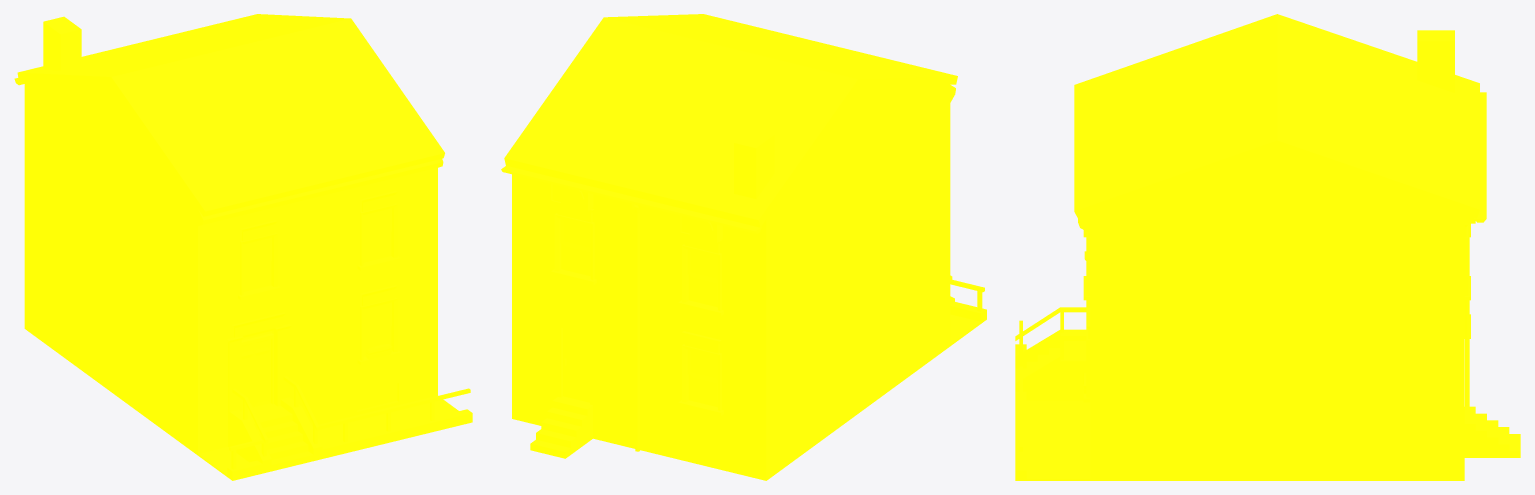
File: building-house-block-big.glb
The picture shows the model from 3 angles, left to right: view 1: azimuth 30°, elevation 25°; view 2: azimuth 150°, elevation 25°; view 3: azimuth 270°, elevation 25°; orthographic projection. The views are drawn at different scales.
Visible parts, largest first — view 1: building-house-block-big; view 2: building-house-block-big; view 3: building-house-block-big.
Boxes of the visible parts, bbox=[...] form: building-house-block-big: bbox=[14, 14, 472, 480]; building-house-block-big: bbox=[501, 14, 986, 480]; building-house-block-big: bbox=[1015, 14, 1520, 480].
Size of the model in its own units: 8 by 10.04 by 13.5.
1 material, 1 textured.
